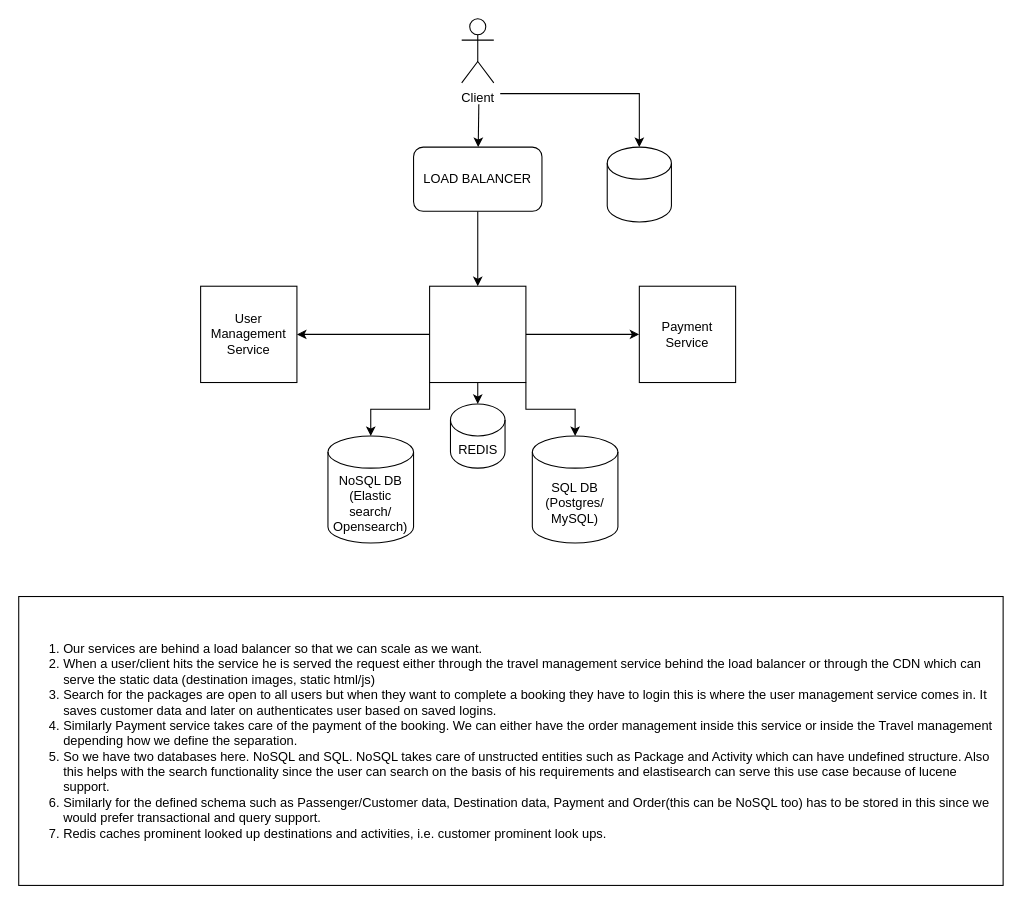
The diagram is 1022 pixels wide and 904 high, and some of its shapes have lost their labels. The box of each missing label's shape, as (x1, y1, x2, y2) in pixels:
CDN: (606, 146, 671, 222)
Travel Management Service: (429, 285, 526, 383)
